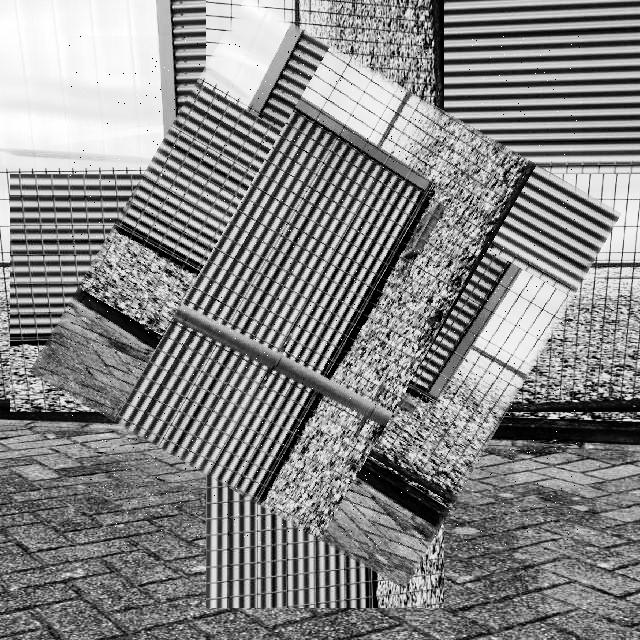fences: (68, 36, 582, 550)
